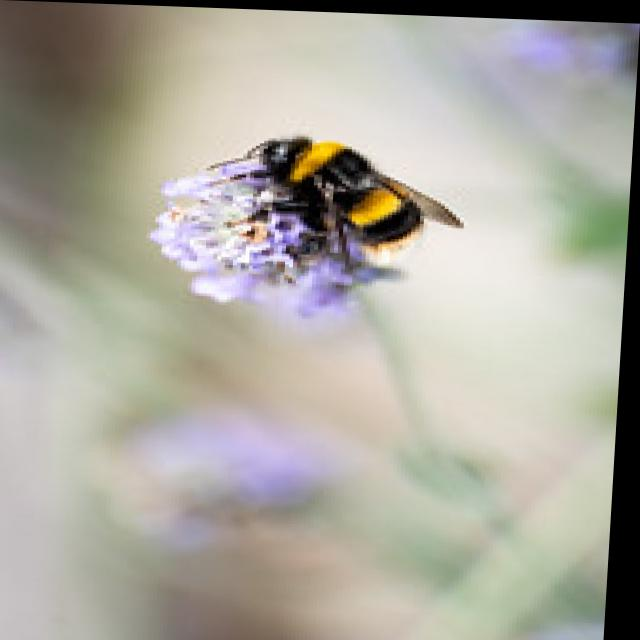Abeille: (238, 120, 484, 269)
